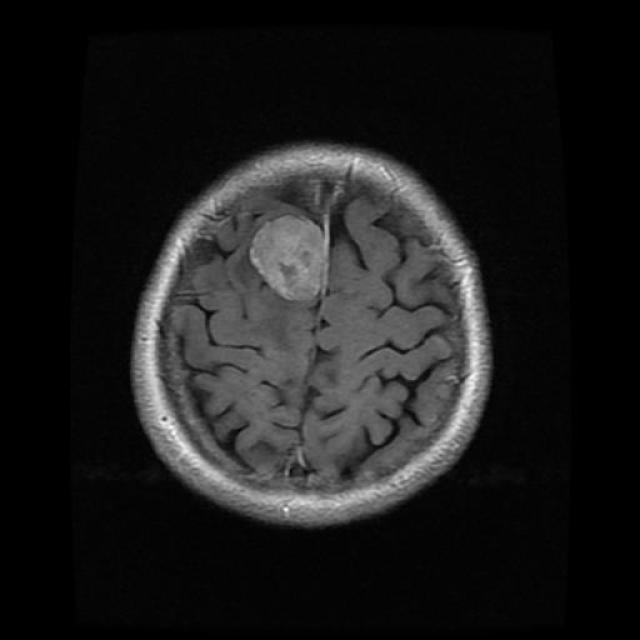meningioma: (250, 214, 324, 302)
